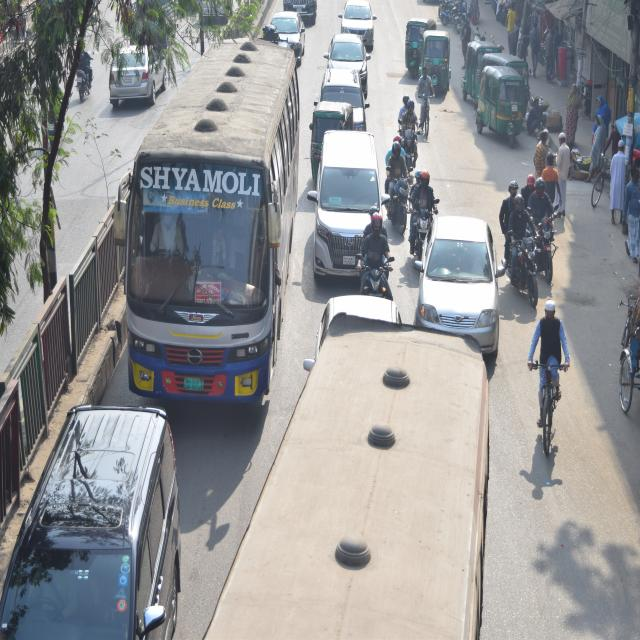bus: (243, 322, 497, 640), (118, 33, 295, 383)
car: (422, 212, 498, 352), (108, 38, 168, 108), (323, 61, 366, 126), (271, 2, 307, 61), (332, 32, 370, 77), (338, 0, 374, 43)
microbus: (0, 394, 184, 640), (314, 124, 386, 274)
motorbike: (511, 245, 543, 311), (533, 217, 559, 279), (389, 170, 412, 233), (70, 58, 99, 103), (400, 119, 420, 168), (413, 210, 429, 258)
